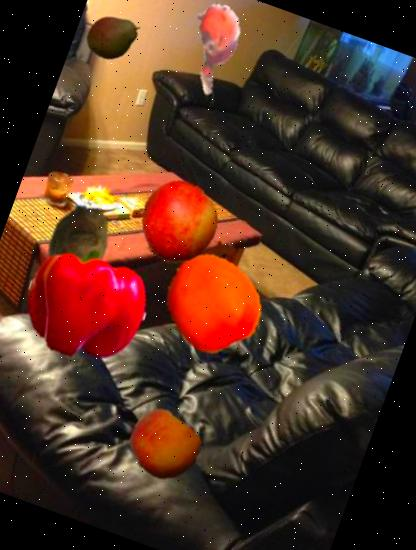Apricot: (147, 240, 276, 369)
Banana: (150, 0, 268, 105)
Ginger: (0, 183, 149, 339)
Nectarine: (126, 170, 230, 274)
Peach: (118, 400, 209, 491)
Pear: (77, 0, 150, 72)
Pepper: (8, 227, 162, 381)
